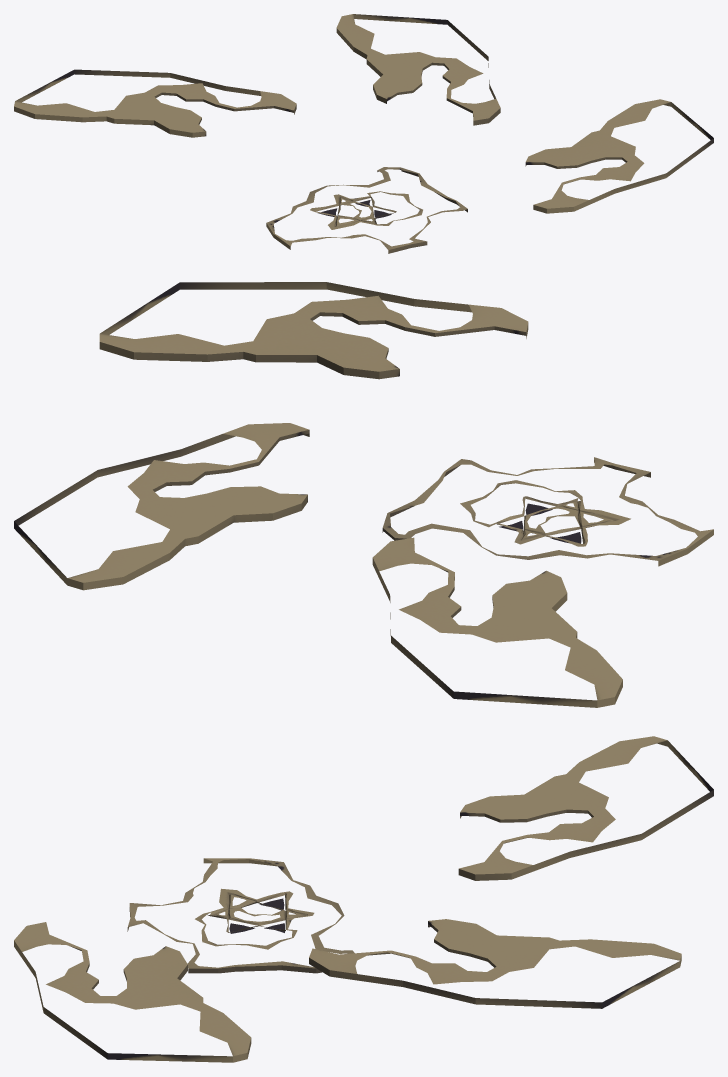
File: Ground_01.FBX
3 views of the same model, one above another, from view 1: azimuth 30°, elevation 25°; view 2: azimuth 150°, elevation 25°; view 3: azimuth 270°, elevation 25° (orthographic). The views are drawn at different scales.
Parts seen in each view (by area): view 1: Ground_01; view 2: Ground_01; view 3: Ground_01.
Boxes of the visible parts, bbox=[...] form: Ground_01: bbox=[14, 14, 713, 253]; Ground_01: bbox=[14, 282, 713, 707]; Ground_01: bbox=[14, 736, 713, 1062].
Bounding box in the file's own units: 55.19 × 4.73 × 51.01.
